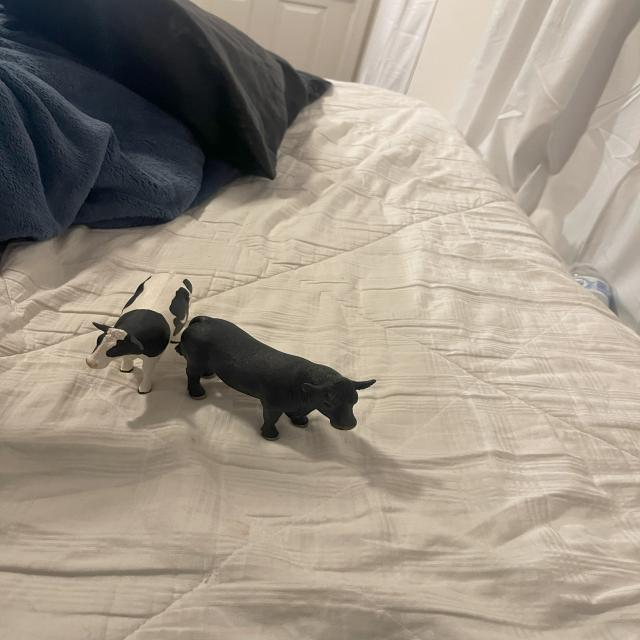cow: (182, 303, 379, 485), (79, 256, 191, 408)
